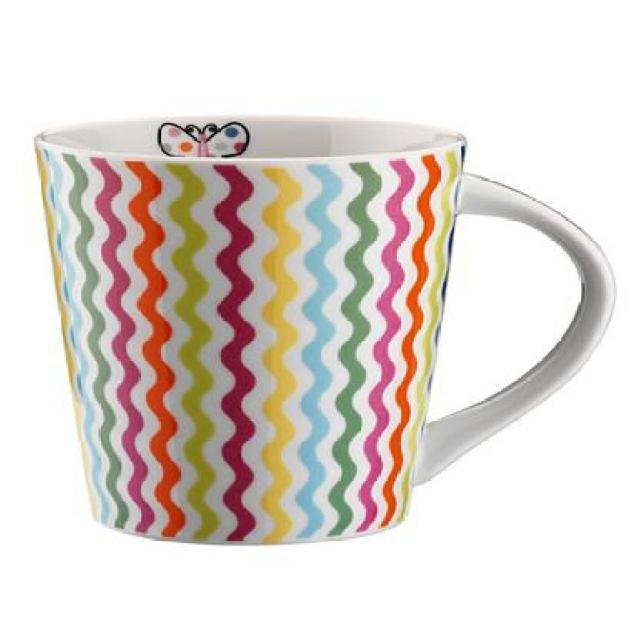taza: (32, 112, 613, 546)
